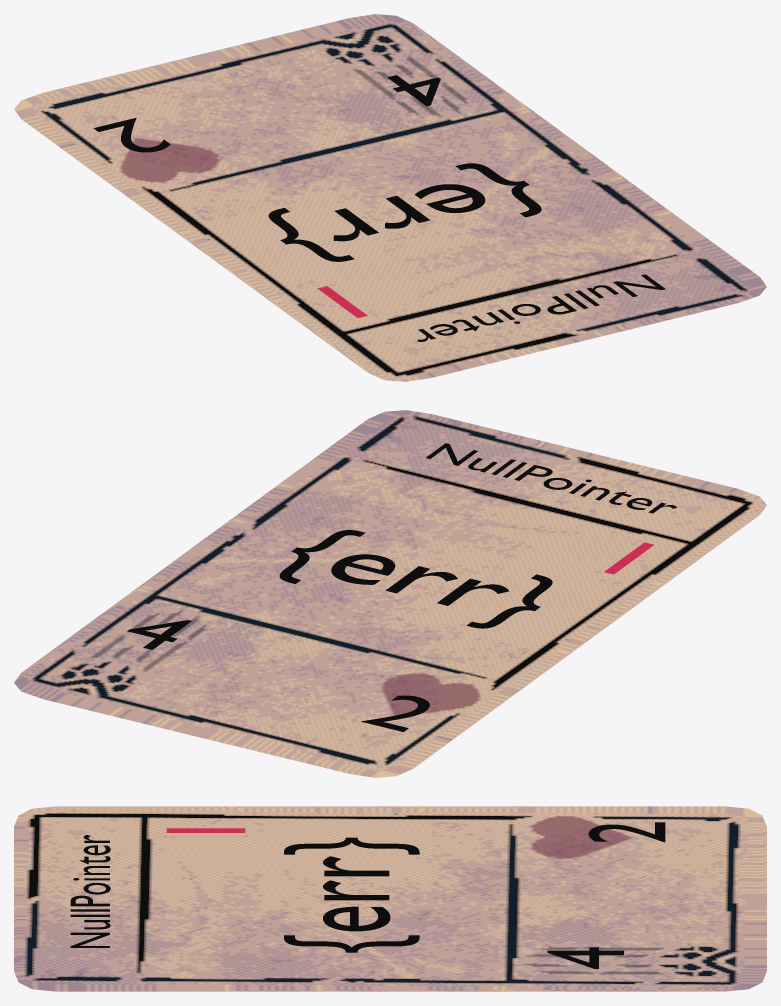
The model's file is NullPointer.glb.
The picture shows the model from 3 angles, top to bottom: view 1: azimuth 30°, elevation 25°; view 2: azimuth 150°, elevation 25°; view 3: azimuth 270°, elevation 25°; orthographic projection. The views are drawn at different scales.
Visible parts, largest first — view 1: NullPointer; view 2: NullPointer; view 3: NullPointer.
Part boxes in pixels (bbox=[...]): NullPointer: bbox=[14, 14, 766, 381]; NullPointer: bbox=[14, 410, 766, 777]; NullPointer: bbox=[14, 806, 766, 991].
Size of what is drawn, in the model's own units: 44.93 by 0.4028 by 77.22.
Materials: 5 (1 with a texture image).
